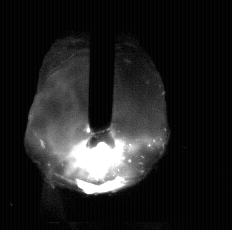arame: (89, 0, 114, 149)
poca: (25, 0, 170, 230)
